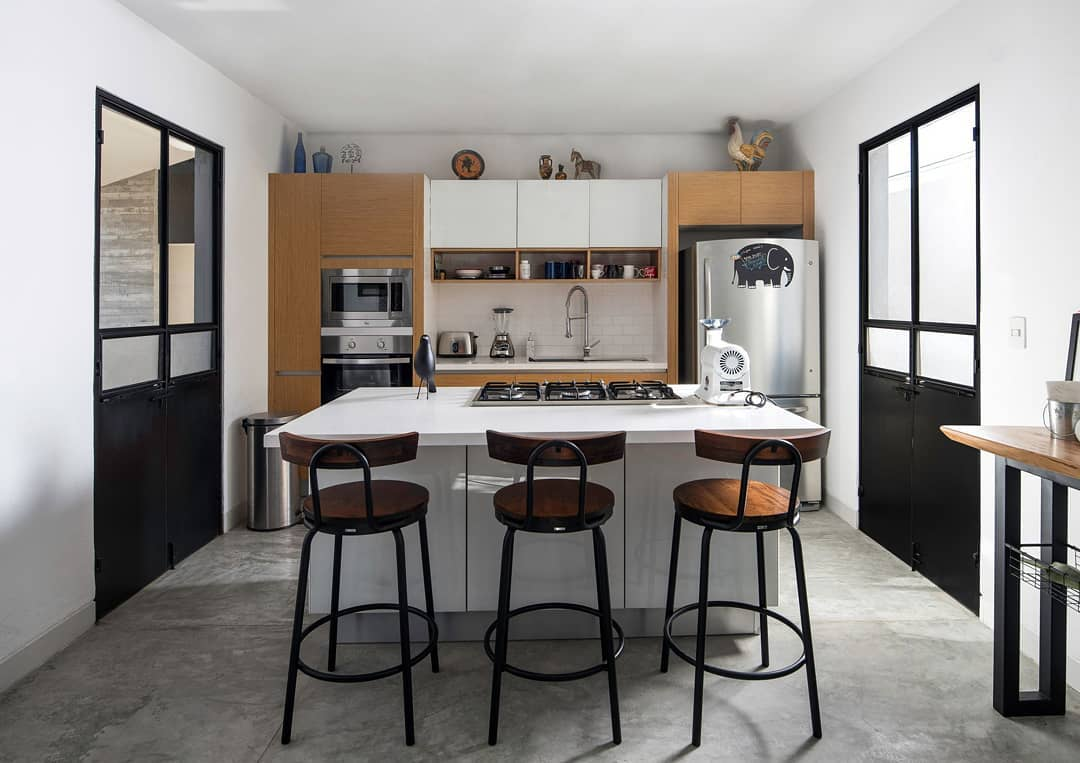gelas: (1041, 396, 1078, 439)
kursi: (279, 431, 445, 732), (470, 431, 636, 732), (667, 430, 833, 731)
meja: (282, 380, 817, 645), (940, 422, 1080, 725)
